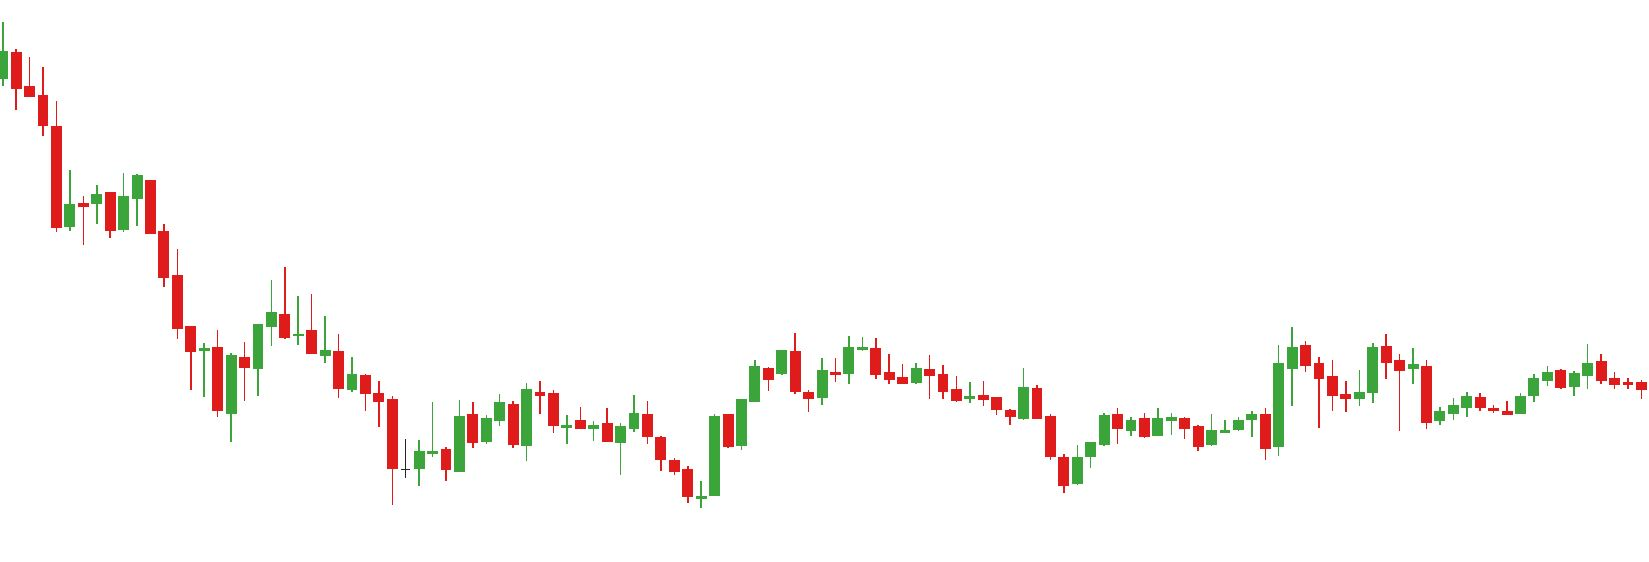buy: (613, 421, 720, 510)
